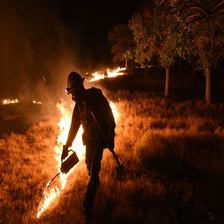fire: (54, 108, 82, 190), (26, 183, 67, 218), (85, 60, 132, 83), (4, 90, 39, 111), (108, 97, 125, 125)
